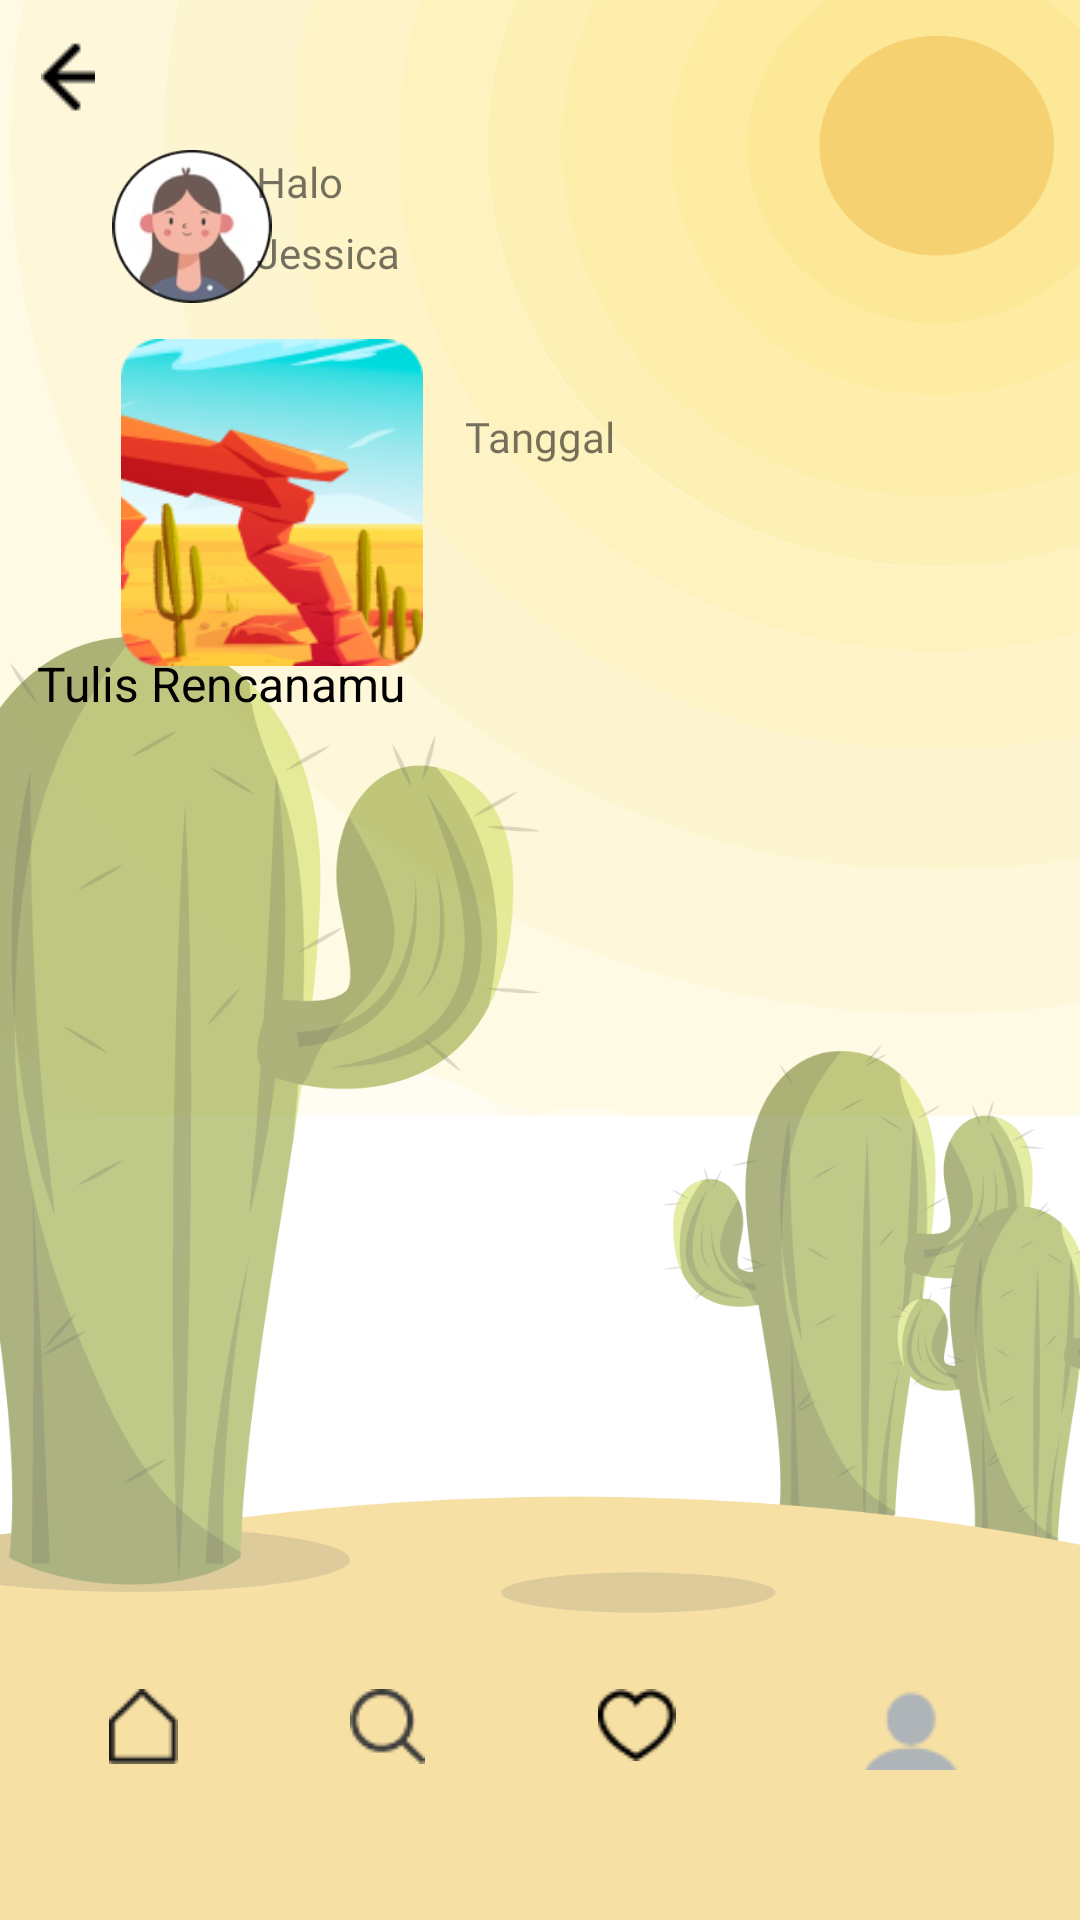

Named icons in this screenshot (1080px×1920px) and their centers, point (x, y):
arrow back: point (68, 77)
card rencana wisata: point (263, 502)
home: point (143, 1726)
like: point (637, 1725)
person: point (911, 1731)
profile circle: point (194, 226)
search: point (387, 1726)
